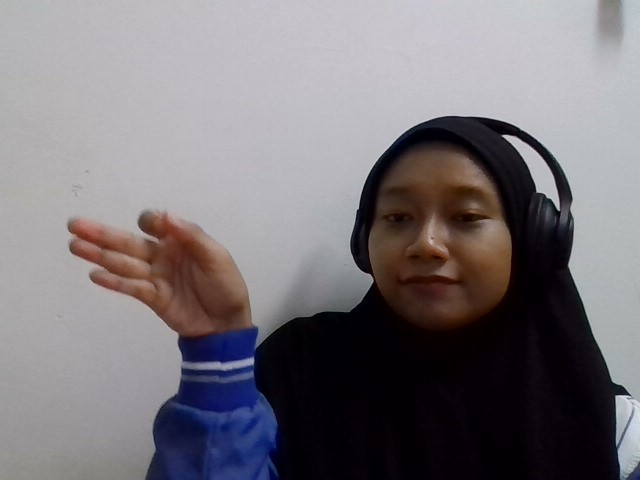Angsa: (66, 210, 253, 334)
